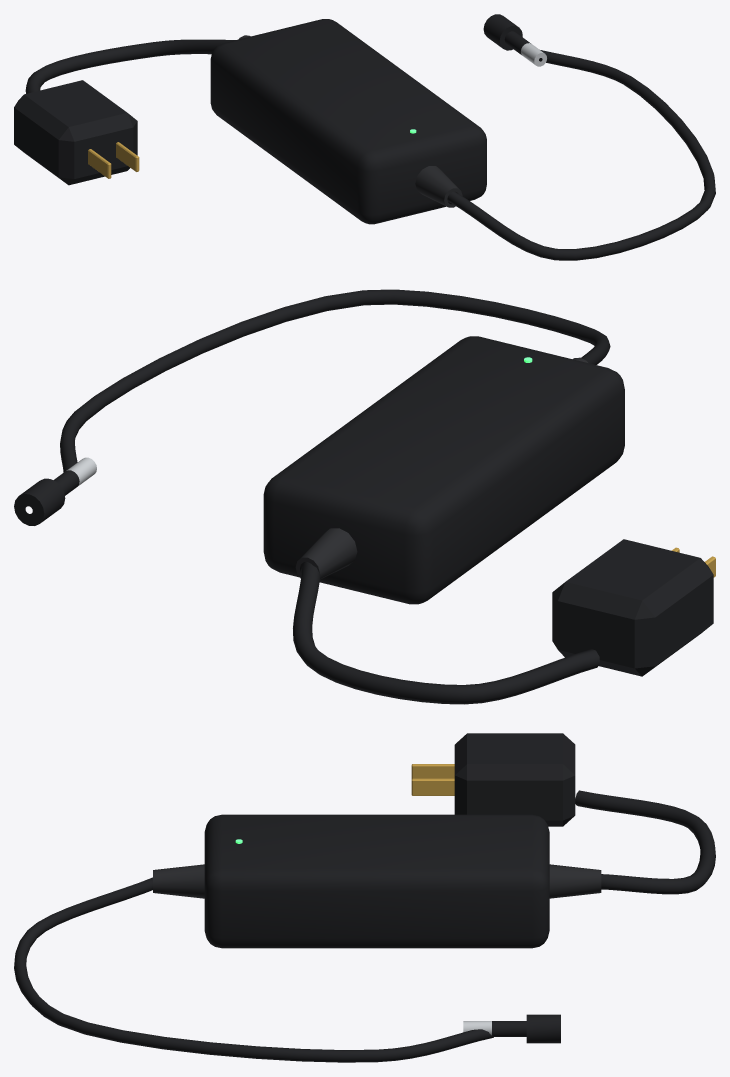
The model's file is laptop-power-brick.glb.
The picture shows the model from 3 angles, top to bottom: view 1: azimuth 30°, elevation 25°; view 2: azimuth 150°, elevation 25°; view 3: azimuth 270°, elevation 25°; orthographic projection. The views are drawn at different scales.
Visible parts, largest first — view 1: Laptop_Power_Brick; view 2: Laptop_Power_Brick; view 3: Laptop_Power_Brick.
Boxes of the visible parts, x1,y1,x2,y2 form: Laptop_Power_Brick: (14, 14, 715, 260); Laptop_Power_Brick: (14, 289, 715, 704); Laptop_Power_Brick: (14, 733, 715, 1062).
Bounding box in the file's own units: 0.2295 × 0.0307 × 0.2442.
